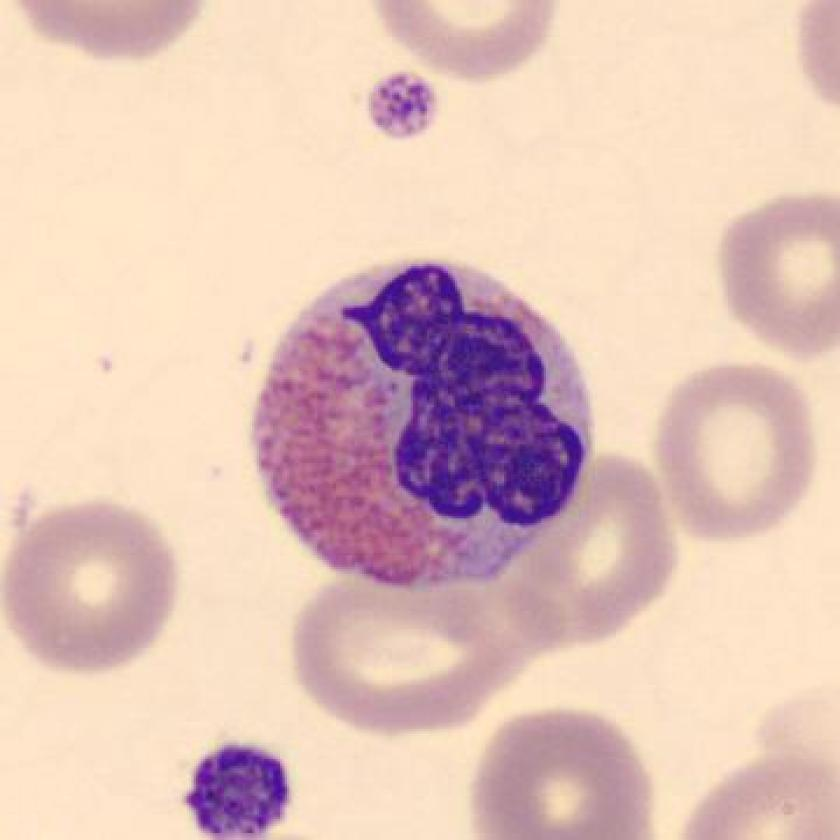eosinophil: (239, 251, 605, 598)
